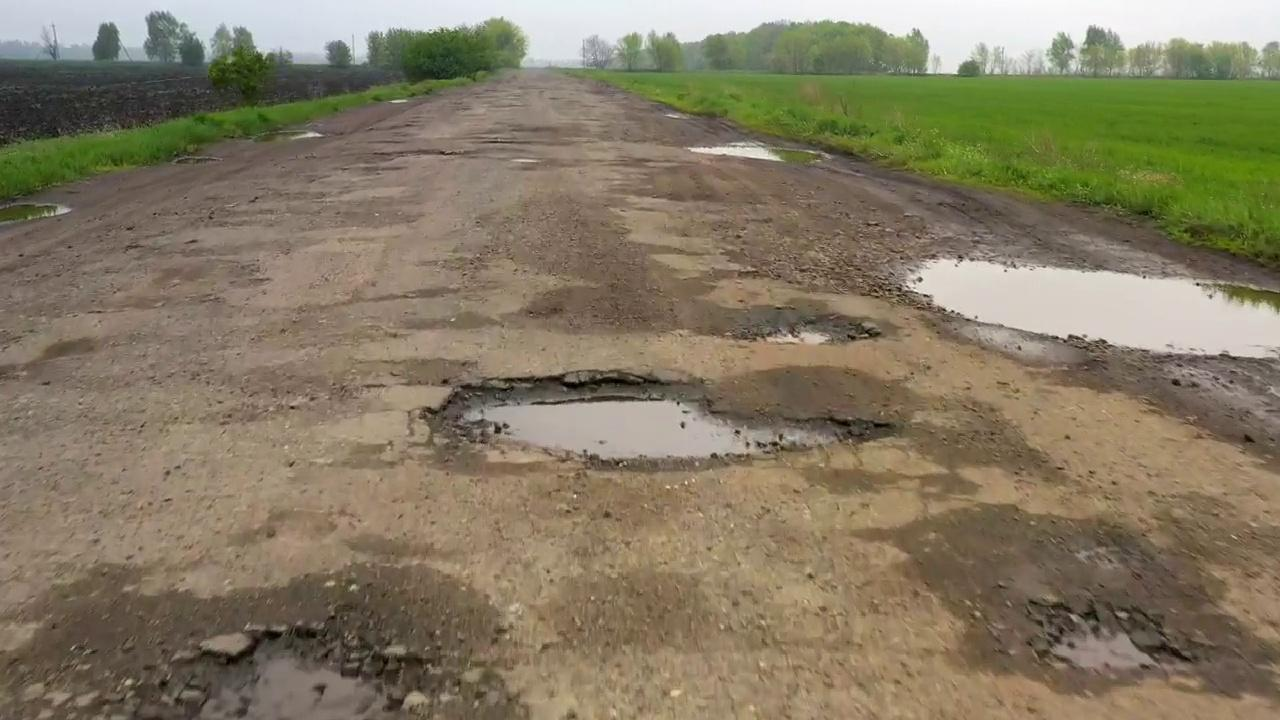bache: (125, 615, 522, 719), (442, 373, 879, 466), (909, 259, 1279, 356), (1020, 593, 1214, 671), (725, 307, 882, 344)
